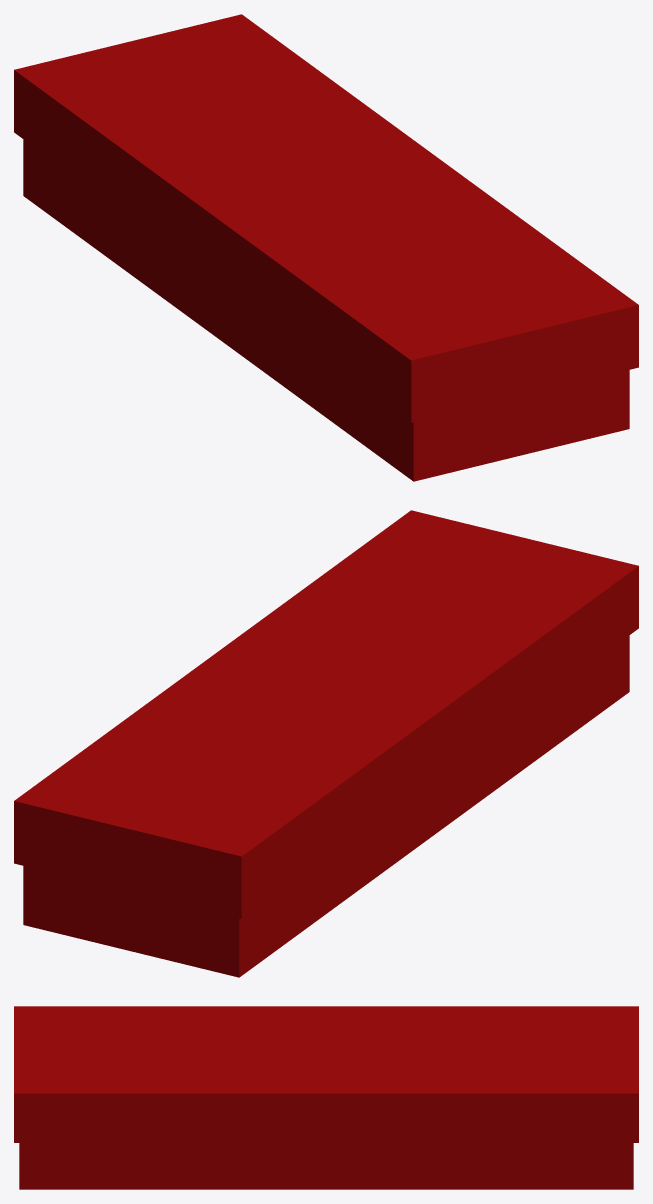
Rendered from Paper_Box_07.FBX.
3 views of the same model, one above another, from view 1: azimuth 30°, elevation 25°; view 2: azimuth 150°, elevation 25°; view 3: azimuth 270°, elevation 25° (orthographic). The views are drawn at different scales.
Visible parts, largest first — view 1: Paper_Box_07; view 2: Paper_Box_07; view 3: Paper_Box_07.
Part boxes in pixels (left/top/right/bottom): Paper_Box_07: left=14, top=14, right=638, bottom=481; Paper_Box_07: left=14, top=510, right=638, bottom=977; Paper_Box_07: left=14, top=1006, right=638, bottom=1189.
Size of the model in its own units: 38.58 by 117 by 20.24.
